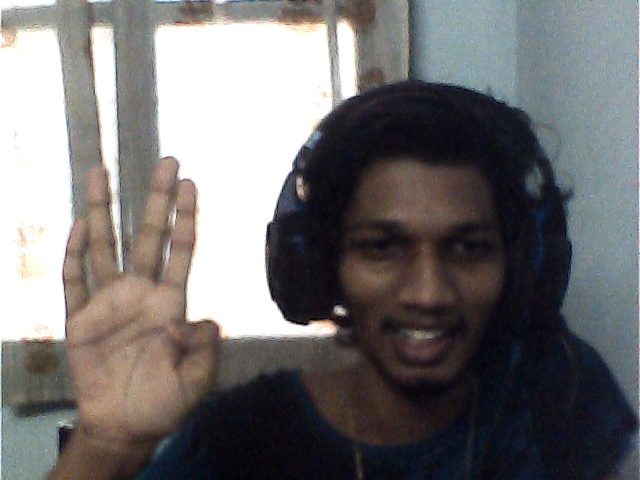LiveLong: (64, 157, 219, 443)
